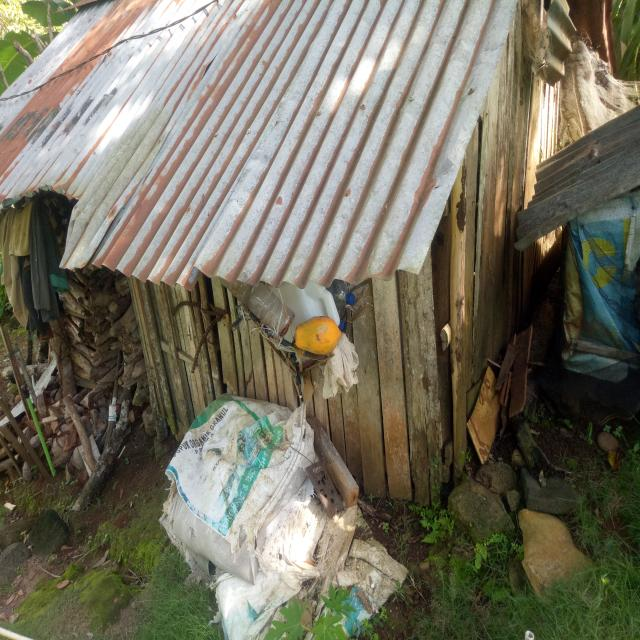Pepaya rippen: (281, 315, 345, 356)
